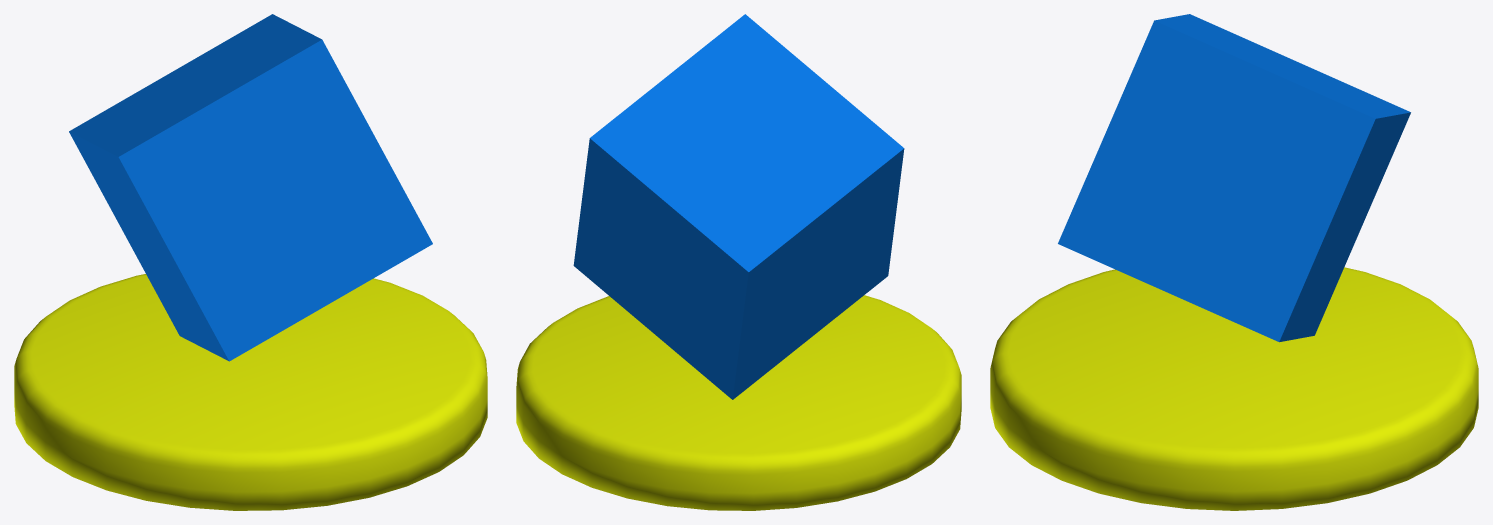
Rendered from blueSquare.glb.
The picture shows the model from 3 angles, left to right: view 1: azimuth 30°, elevation 25°; view 2: azimuth 150°, elevation 25°; view 3: azimuth 270°, elevation 25°; orthographic projection. The views are drawn at different scales.
Visible parts, largest first — view 1: Circle, Cube; view 2: Cube, Circle; view 3: Circle, Cube.
Part boxes in pixels (x1,y1,x2,y2): Circle: (14, 274, 487, 510); Cube: (69, 14, 432, 361); Cube: (573, 14, 904, 399); Circle: (516, 295, 961, 510); Circle: (990, 267, 1478, 510); Cube: (1058, 14, 1410, 342).
Size of the model in its own units: 4 by 3.65 by 4.
